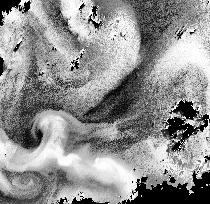CE: (10, 169, 44, 200)
